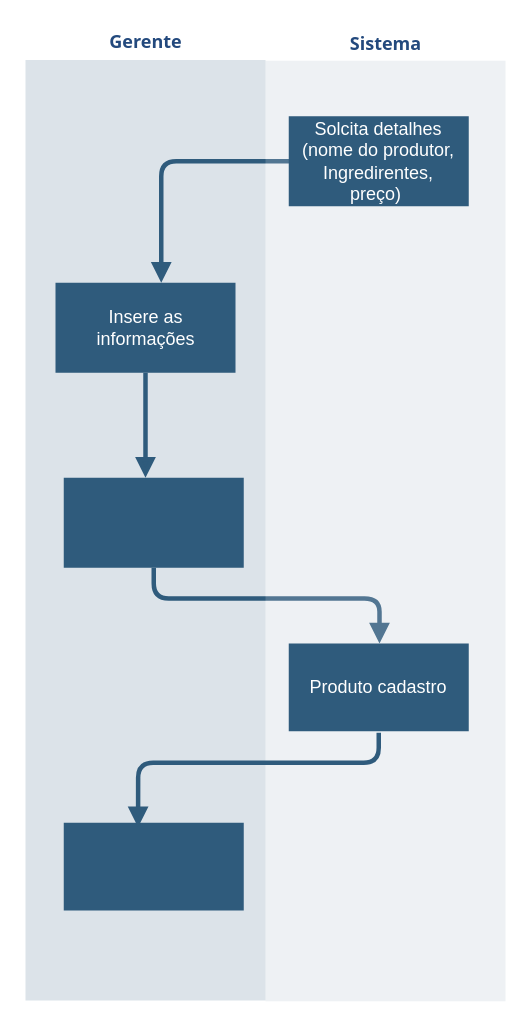
The diagram is 531 pixels wide and 1028 high, and some of its shapes have lost their labels. The shapes that lost their labels are listed below. From the top down, each one's centre as x and y in pixels, then its label:
[153,522]: Clica enviar
[153,866]: Retorna "Produto Cadastrado com sucesso"
